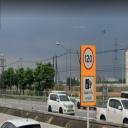speed_limit_120: (81, 47, 95, 72)
